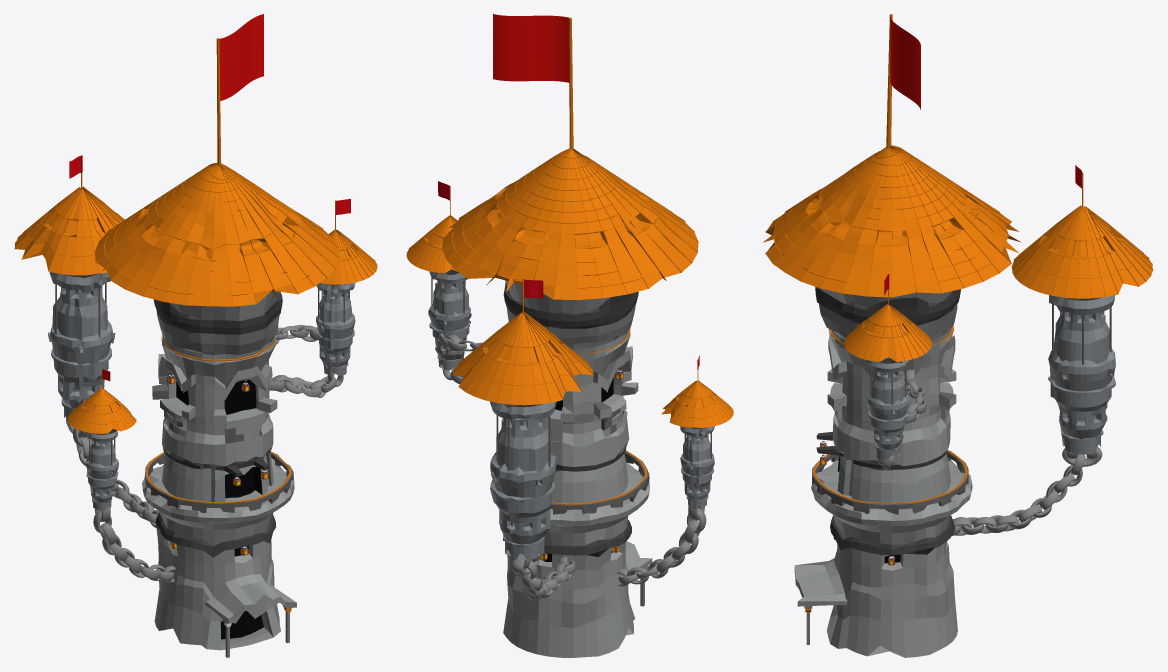
The model's file is Grande tour.fbx.
The picture shows the model from 3 angles, left to right: view 1: azimuth 30°, elevation 25°; view 2: azimuth 150°, elevation 25°; view 3: azimuth 270°, elevation 25°; orthographic projection. The views are drawn at different scales.
Parts seen in each view (by area): view 1: Cylinder.009; view 2: Cylinder.009; view 3: Cylinder.009.
Part boxes in pixels (left/top/right/bottom): Cylinder.009: left=14, top=14, right=377, bottom=657; Cylinder.009: left=406, top=14, right=733, bottom=657; Cylinder.009: left=763, top=14, right=1153, bottom=657.
Bounding box in the file's own units: 9083 × 16882 × 9707.
